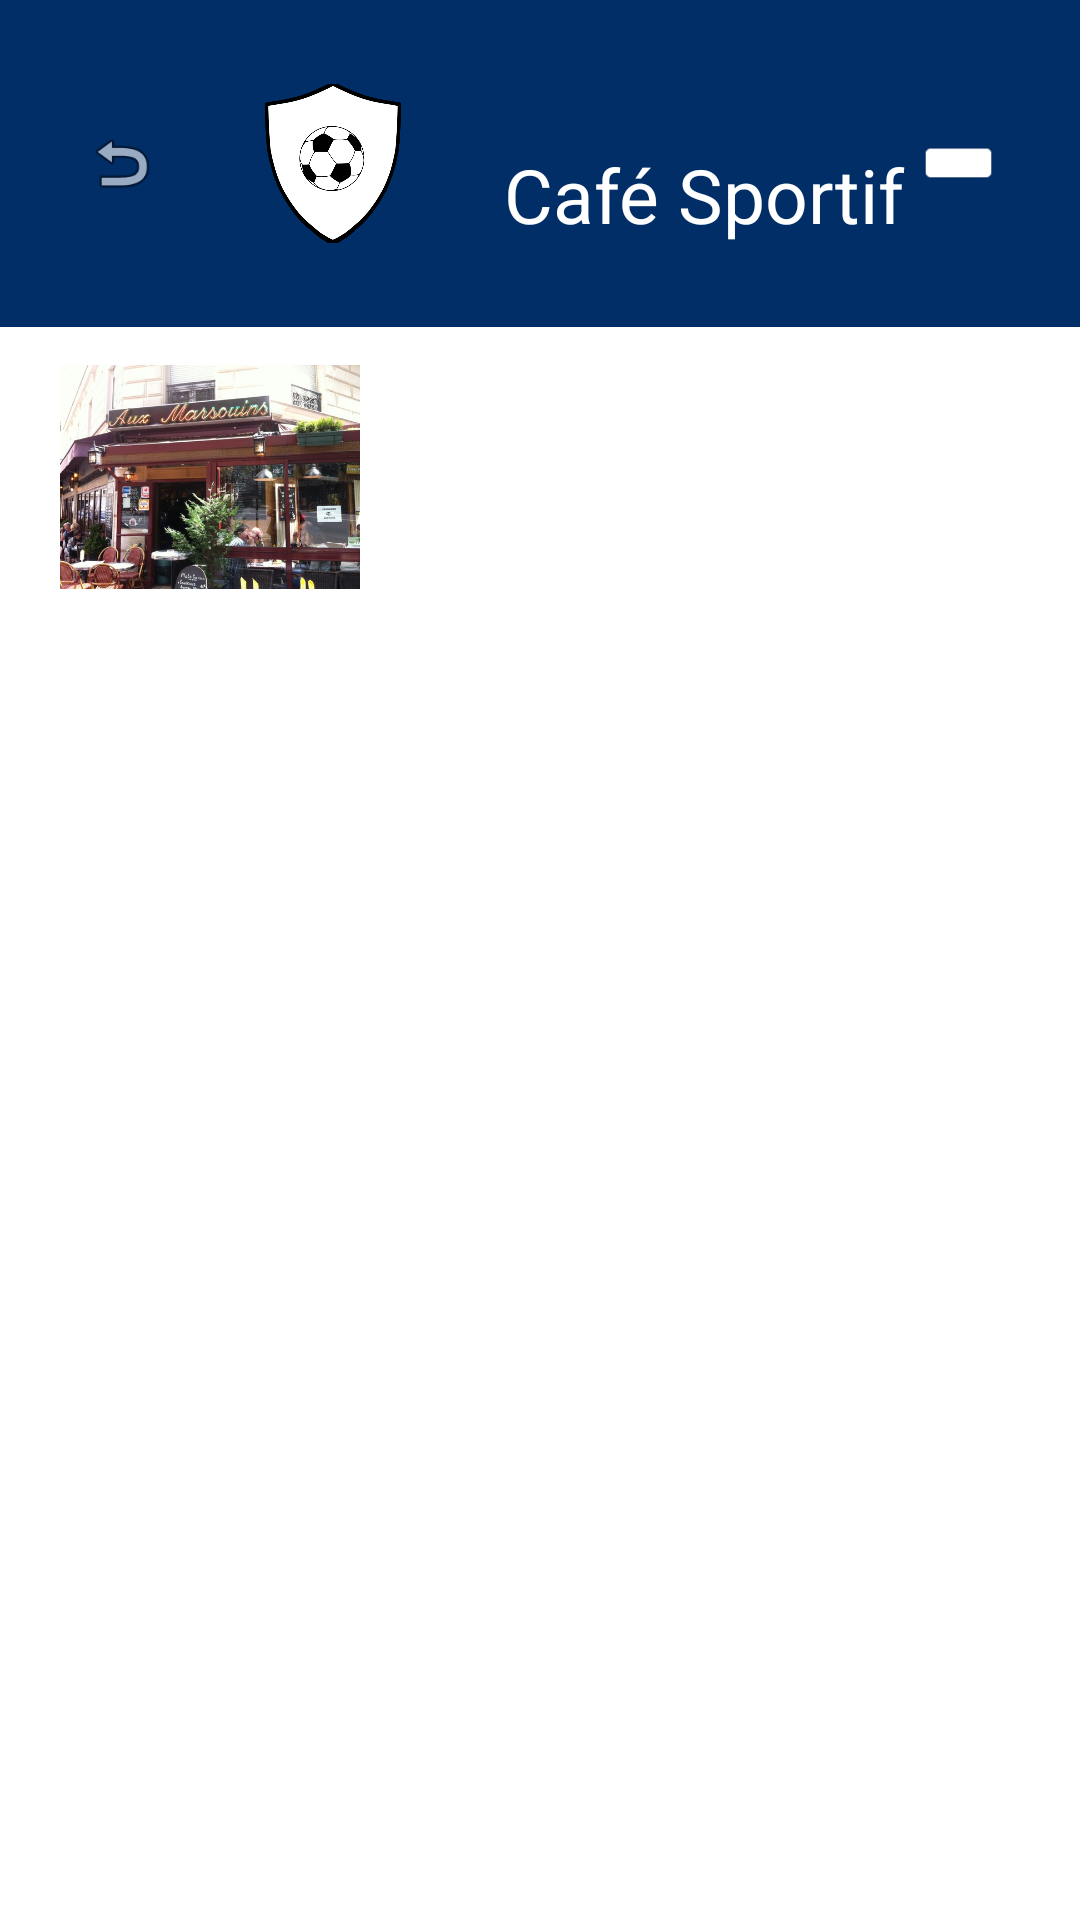

Named icons in this screenshot (1080×1920) and their centers, (x=x, y=y):
revert: (x=122, y=164)
